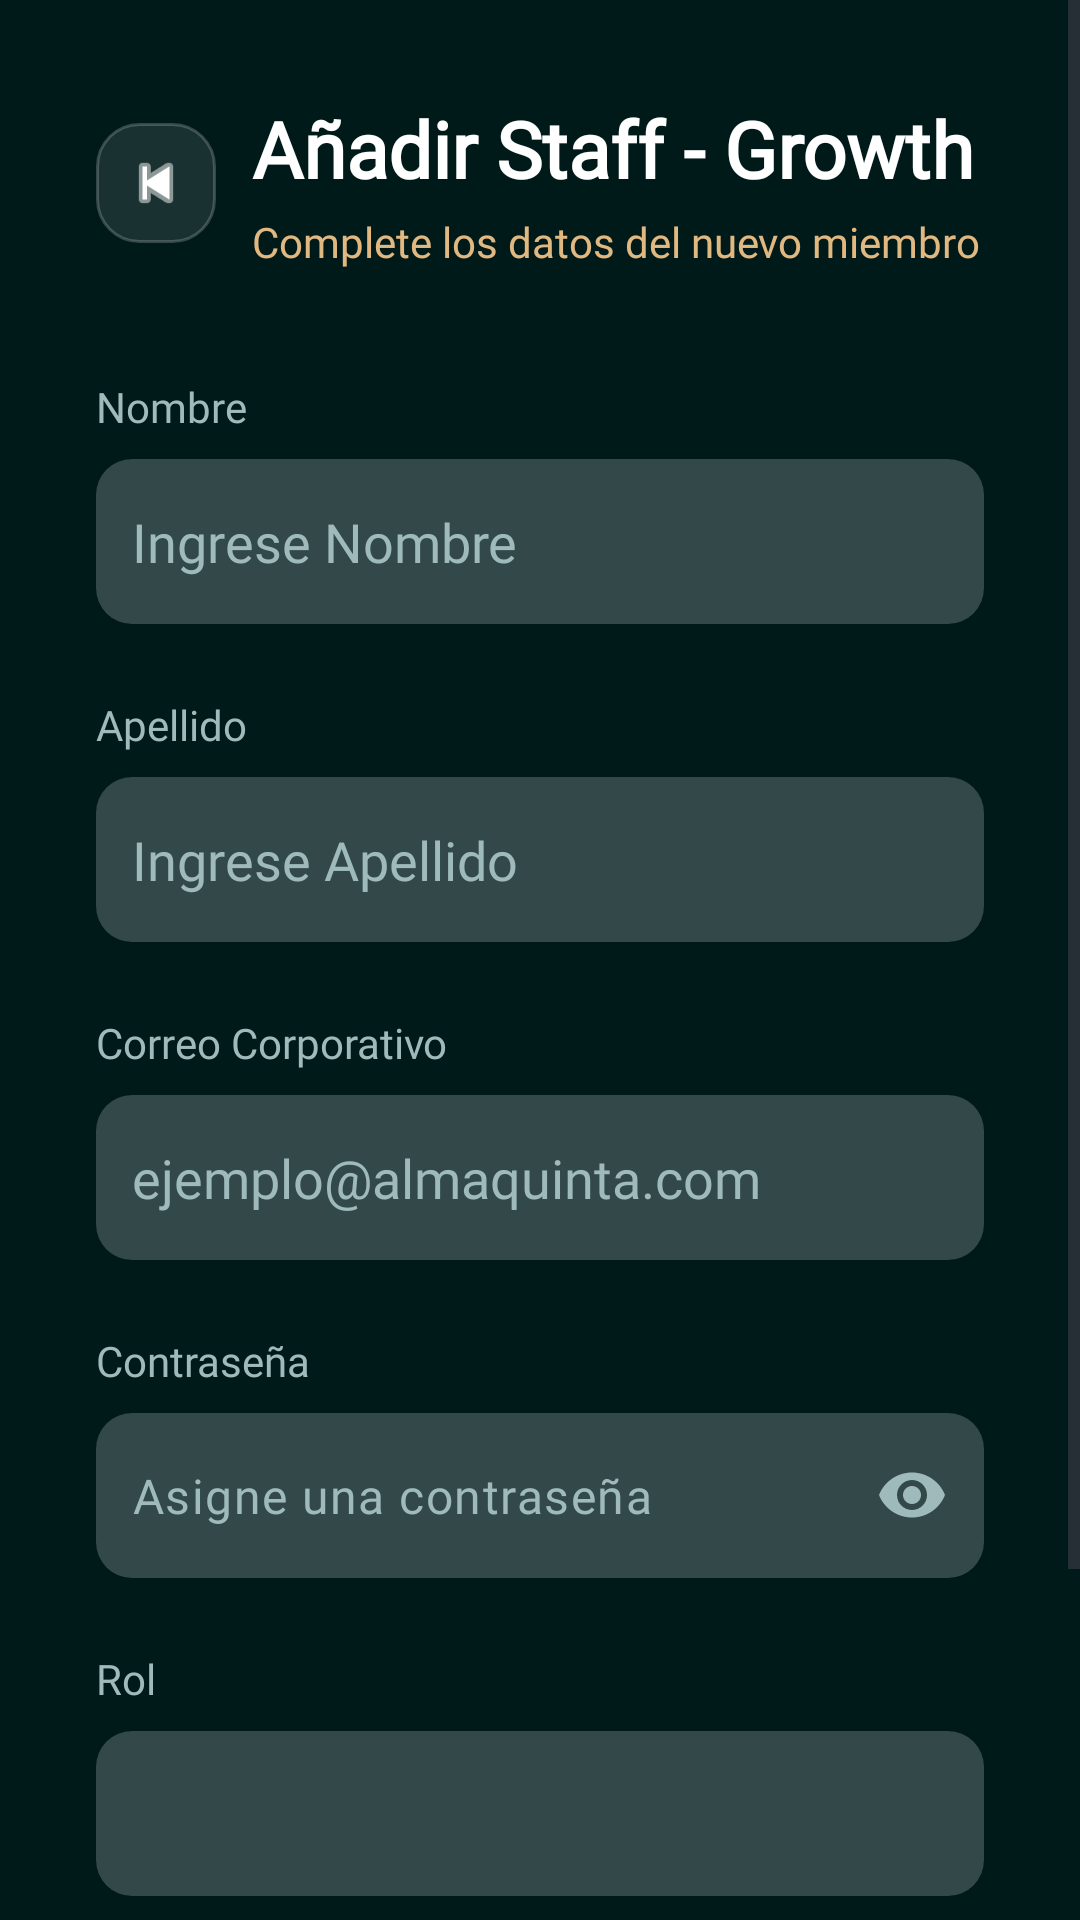

Icon click points for this 1080px×1920px phone screenshot, format (x,y):
previous: (156,183)
